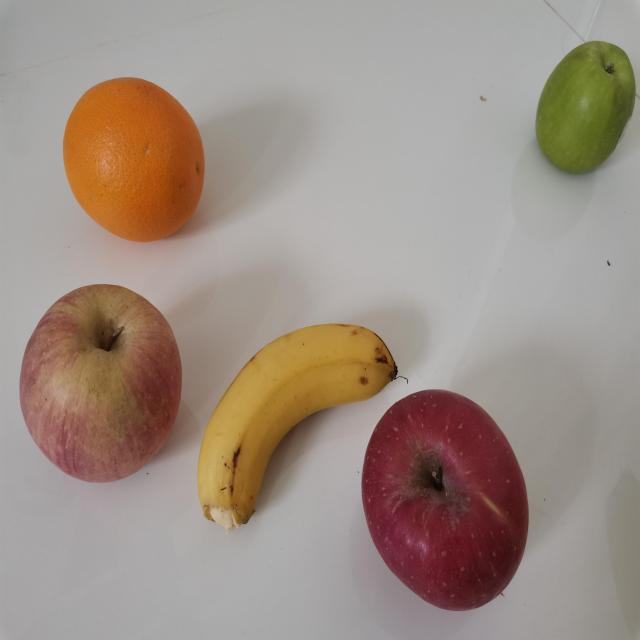Apple: (361, 387, 531, 615), (15, 280, 182, 481), (534, 38, 636, 176)
Banana: (197, 324, 397, 534)
Orange: (62, 76, 206, 242)
